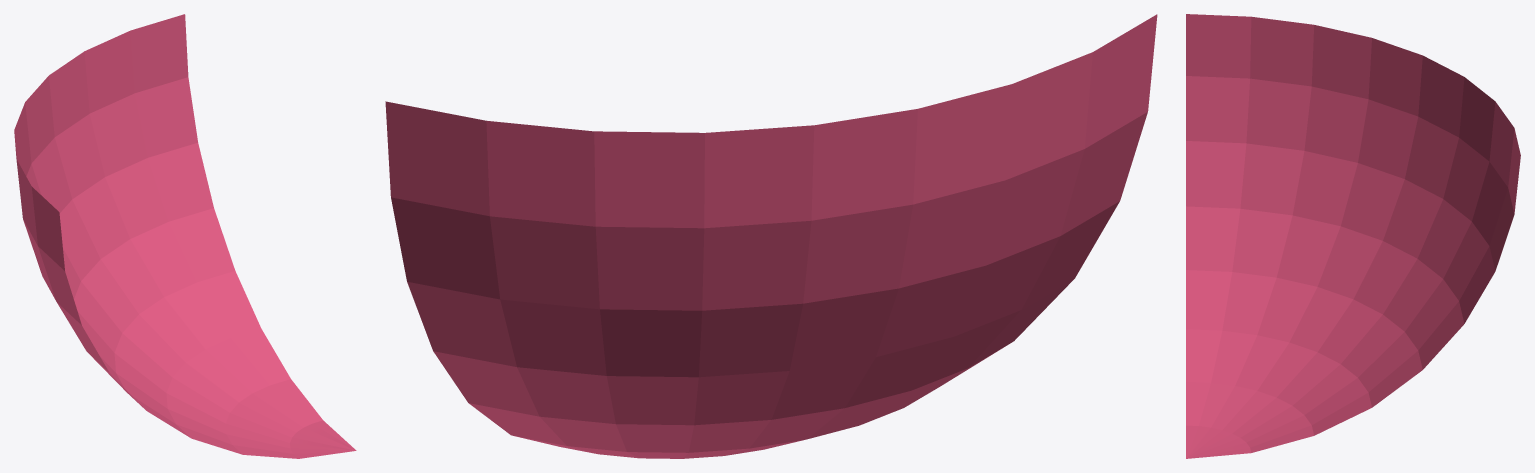
The model's file is r4c2_face_pink.gltf.
3 renders of one model, left to right at view 1: azimuth 30°, elevation 25°; view 2: azimuth 150°, elevation 25°; view 3: azimuth 270°, elevation 25°, orthographic. The views are drawn at different scales.
Parts seen in each view (by area): view 1: r4c2_face_pink; view 2: r4c2_face_pink; view 3: r4c2_face_pink.
Boxes of the visible parts, box(x1,y1,x2,y2) form: r4c2_face_pink: box(14, 14, 356, 458); r4c2_face_pink: box(385, 14, 1157, 458); r4c2_face_pink: box(1186, 14, 1520, 458).
Bounding box in the file's own units: 2 × 2 × 2.
Materials: 1 (1 with a texture image).
